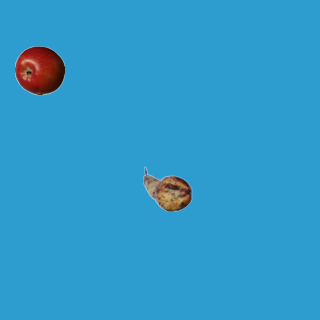Apple Braeburn: (14, 45, 64, 95)
Pear Abate: (142, 164, 192, 214)
